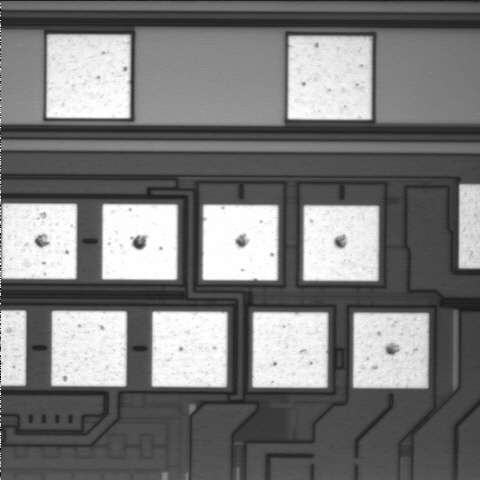pad: (288, 36, 372, 120), (46, 35, 130, 118), (102, 204, 178, 280), (202, 205, 278, 281), (303, 205, 379, 281), (252, 312, 328, 388), (51, 311, 127, 386), (152, 311, 227, 387), (353, 313, 429, 388), (2, 204, 77, 279)
